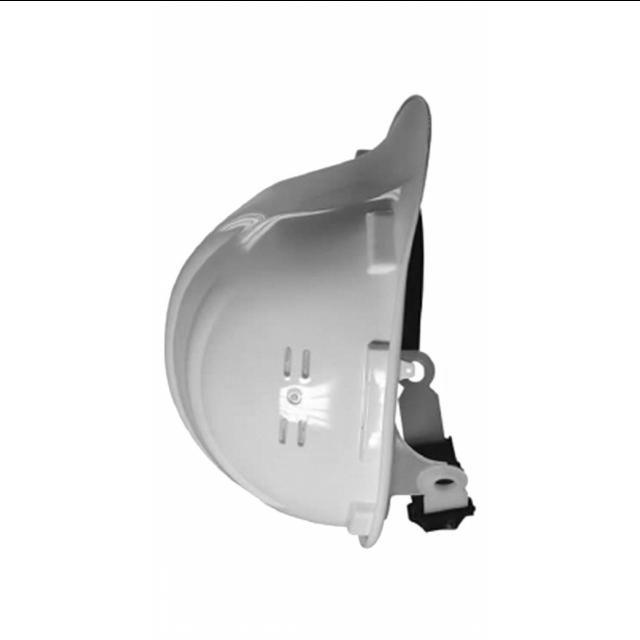construction helmet: (164, 92, 477, 548)
